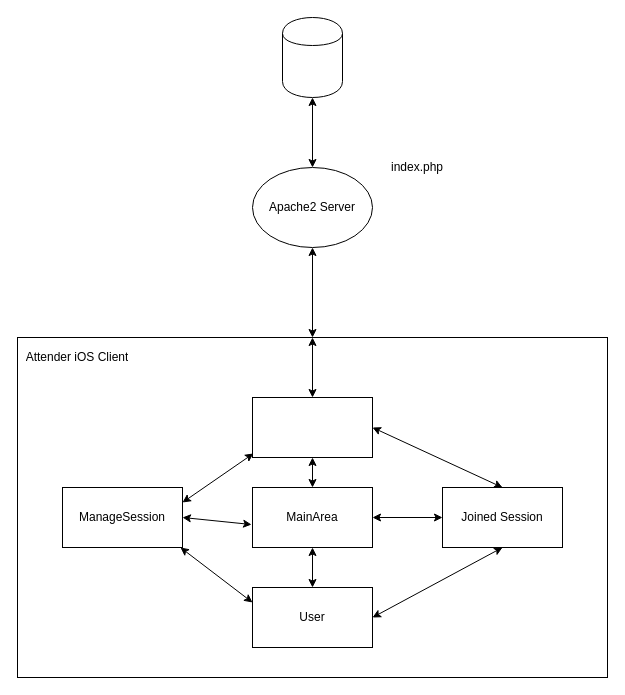
The diagram is 625 pixels wide and 695 high, and some of its shapes have lost their labels. The shapes that lost their labels are listed below. From the top down, each one's centre as x and y in pixels, then its label:
At pixel 312 57: "MySQL Database".
At pixel 312 427: "Networking.Swift".
